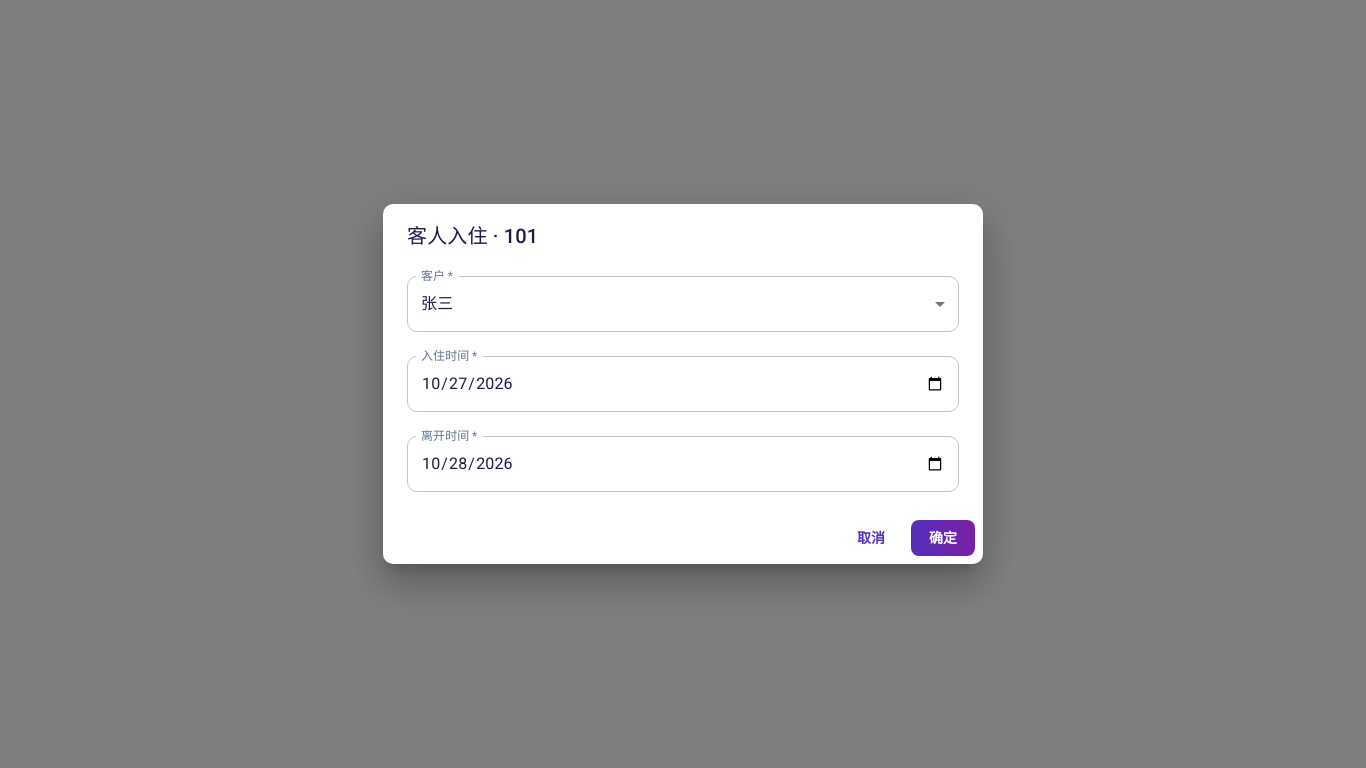
it: MUI migration workflows › rejects a checkout date before check-in
Type "2026-10-22" into the date field labelled "入住时间 *" at x=683, y=384, box [407,356,959,412]
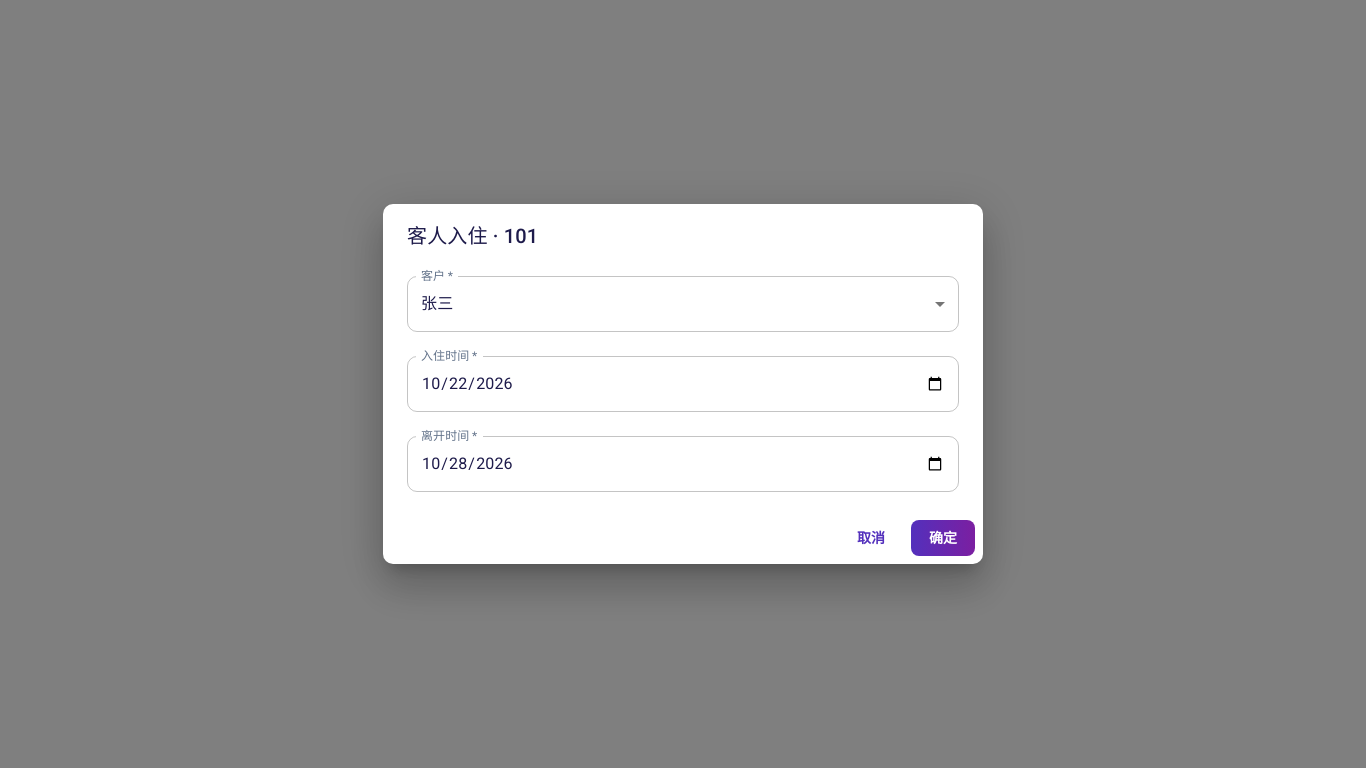
Type "2026-10-21" into the date field labelled "离开时间 *" at x=683, y=464, box [407,436,959,492]
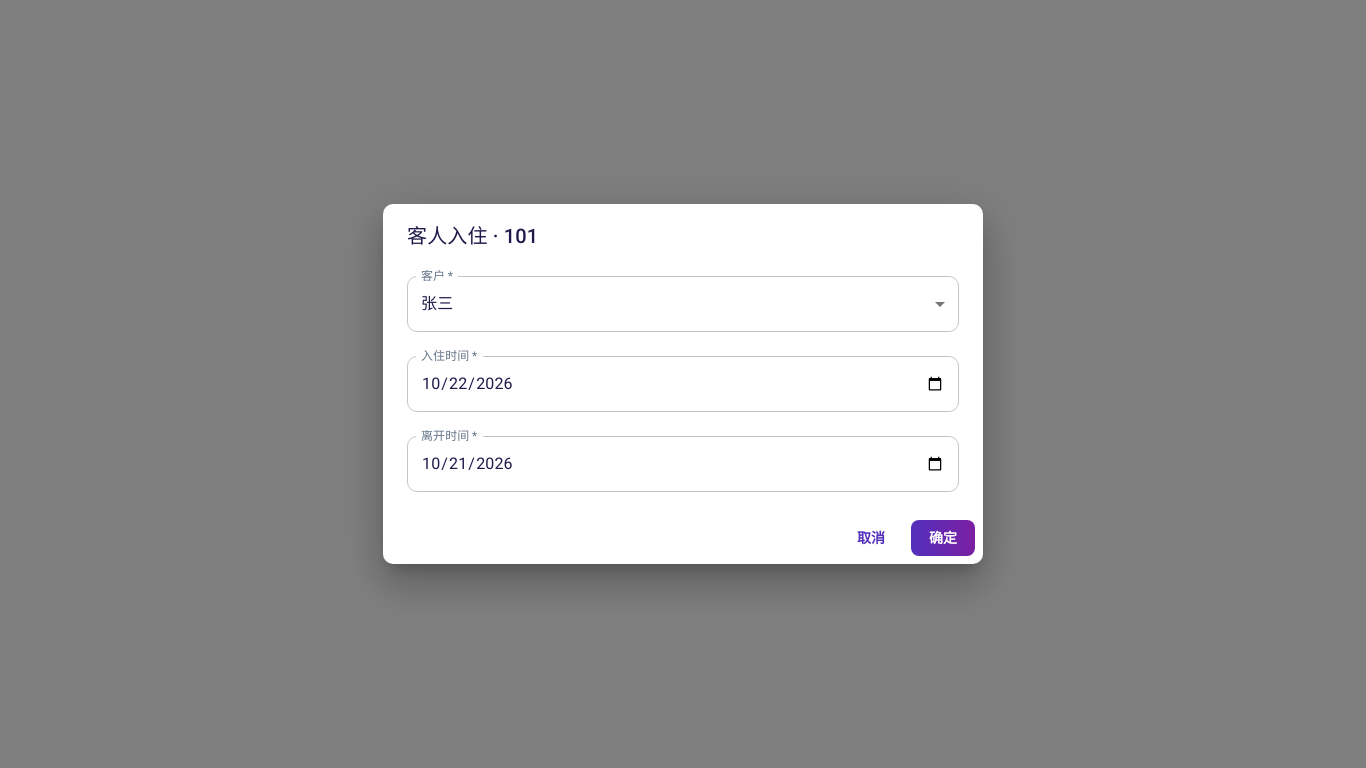
Click the button "确定" at x=943, y=538, box [911,520,975,556]
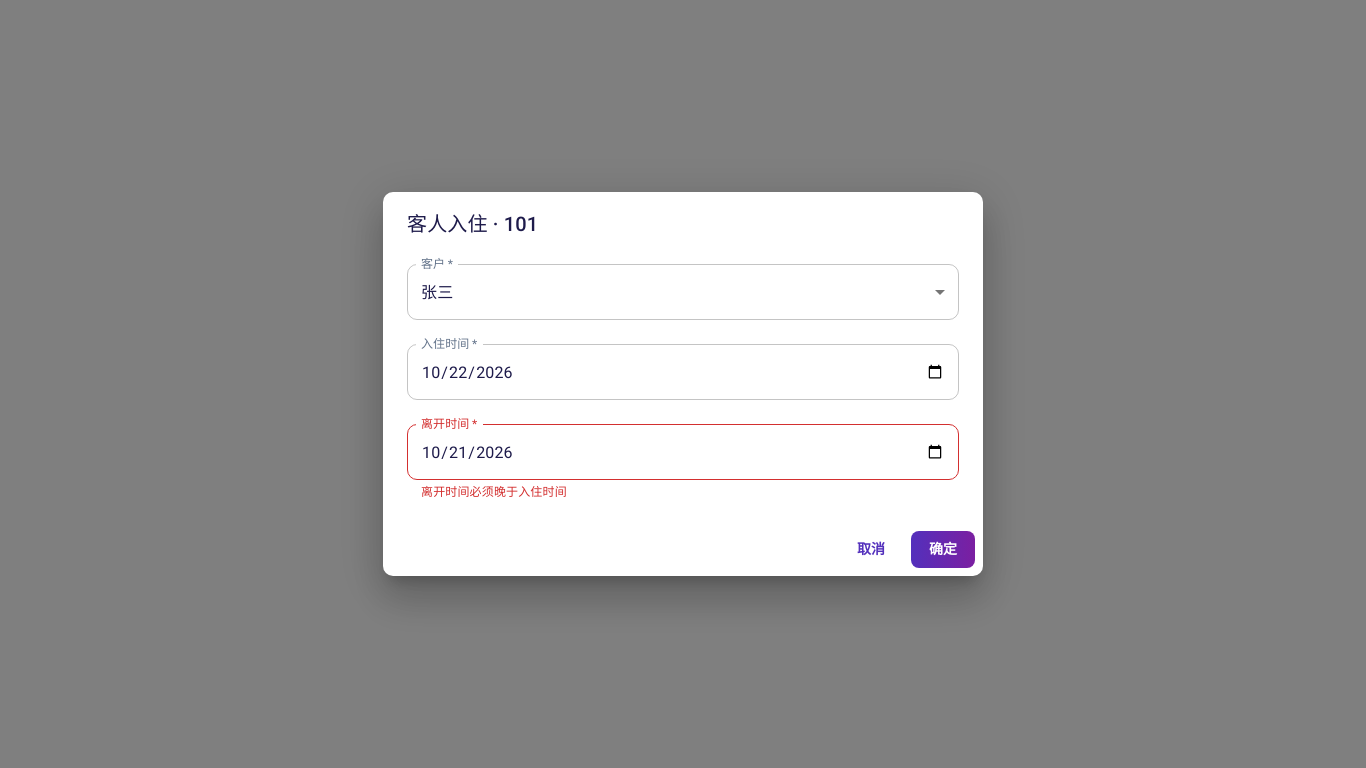
Now the text "离开时间必须晚于入住时间" is shown, box [421,485,567,499]
